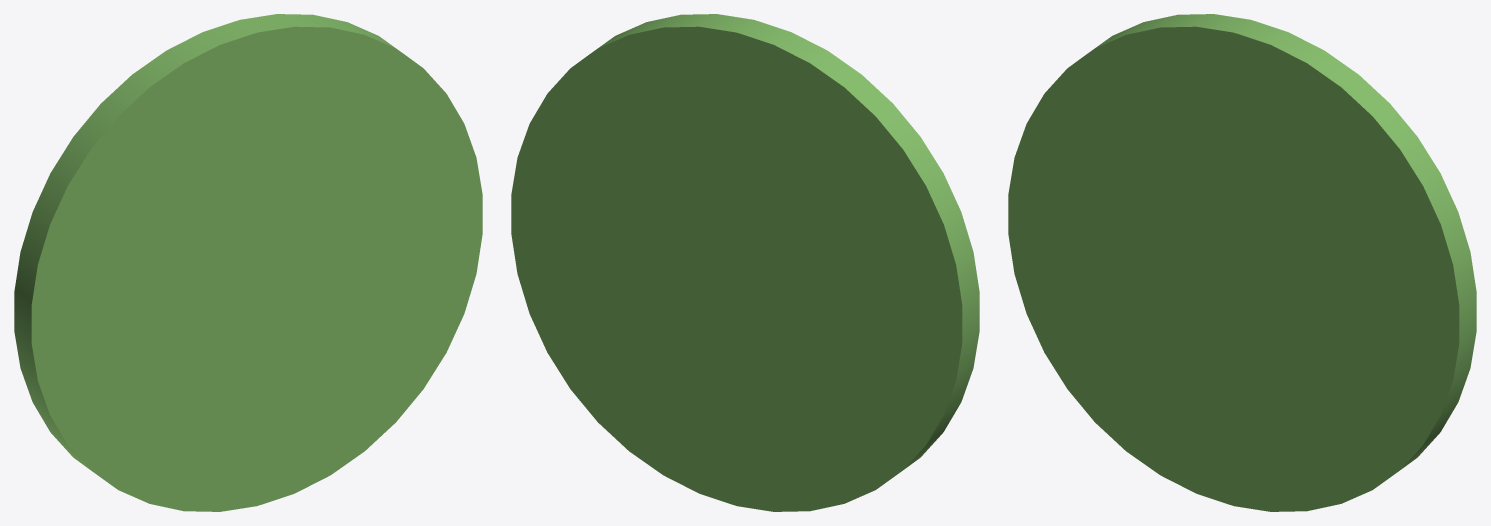
Rendered from Part Studio 1 - Part 45.dae.
3 views of the same model, side by side, from view 1: azimuth 30°, elevation 25°; view 2: azimuth 150°, elevation 25°; view 3: azimuth 330°, elevation 25° (orthographic).
Parts seen in each view (by area): view 1: ID2; view 2: ID2; view 3: ID2.
Boxes of the visible parts, x1=… form: ID2: x1=14, y1=14, x2=482, y2=511; ID2: x1=511, y1=14, x2=979, y2=511; ID2: x1=1008, y1=14, x2=1476, y2=511.
Bounding box in the file's own units: 0.0299 × 0.002 × 0.03.
